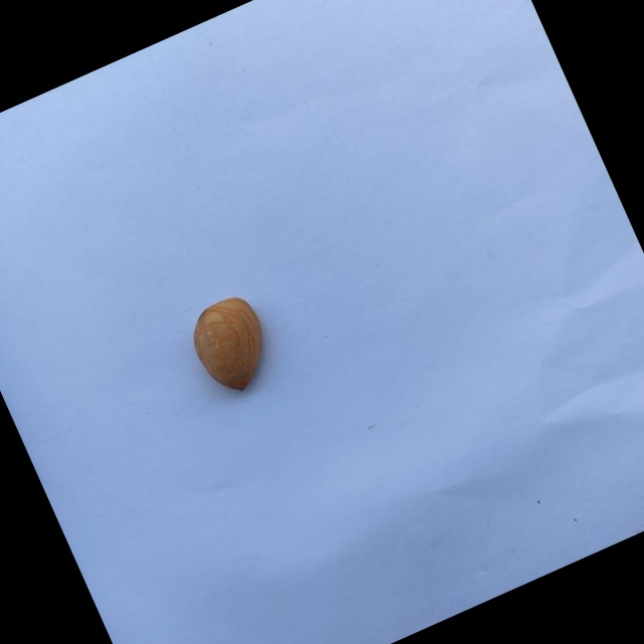grade2: (177, 284, 290, 405)
